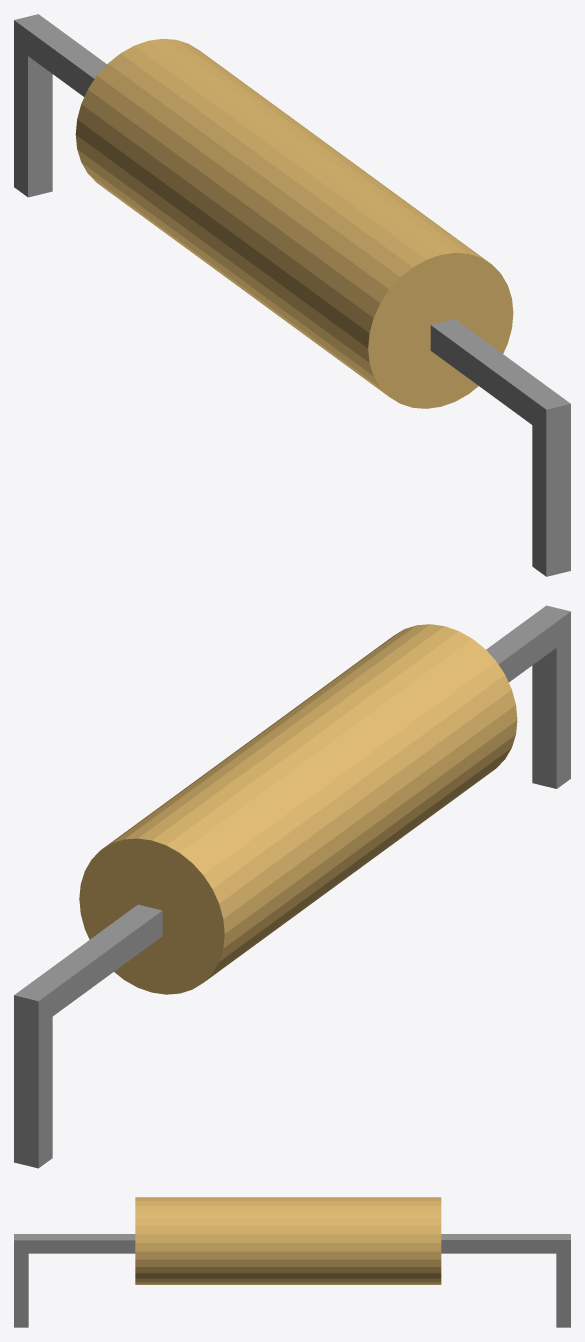
Rendered from resistencia.glb.
3 views of the same model, one above another, from view 1: azimuth 30°, elevation 25°; view 2: azimuth 150°, elevation 25°; view 3: azimuth 270°, elevation 25° (orthographic). The views are drawn at different scales.
Parts seen in each view (by area): view 1: Cilindro, pata2, PATA; view 2: Cilindro, PATA, pata2; view 3: Cilindro, PATA, pata2.
Part boxes in pixels (box(x1,y1,x2,y2)): Cilindro: box(75, 38, 513, 408); pata2: box(430, 319, 570, 576); PATA: box(14, 14, 106, 197); Cilindro: box(79, 624, 517, 994); PATA: box(14, 904, 162, 1168); pata2: box(486, 605, 570, 788); Cilindro: box(135, 1197, 441, 1284); PATA: box(441, 1234, 570, 1327); pata2: box(14, 1234, 135, 1327).
Bounding box in the file's own units: 2 × 3.09 × 12.69.
